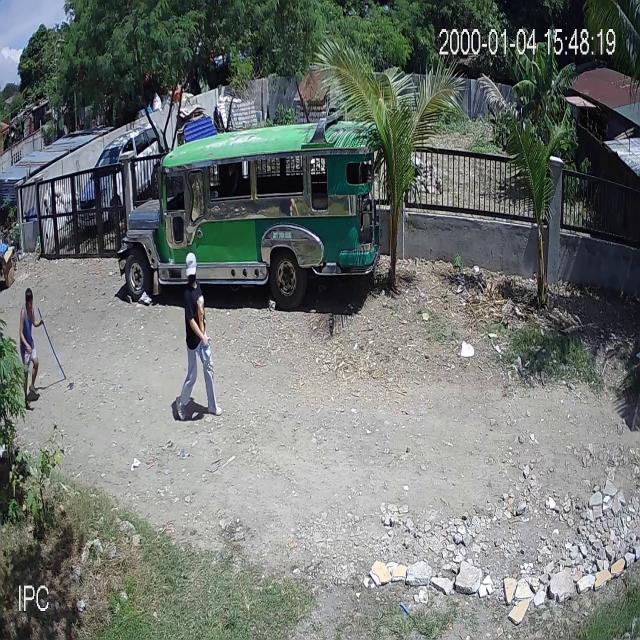running: (15, 288, 66, 408)
walking: (176, 253, 222, 418)
